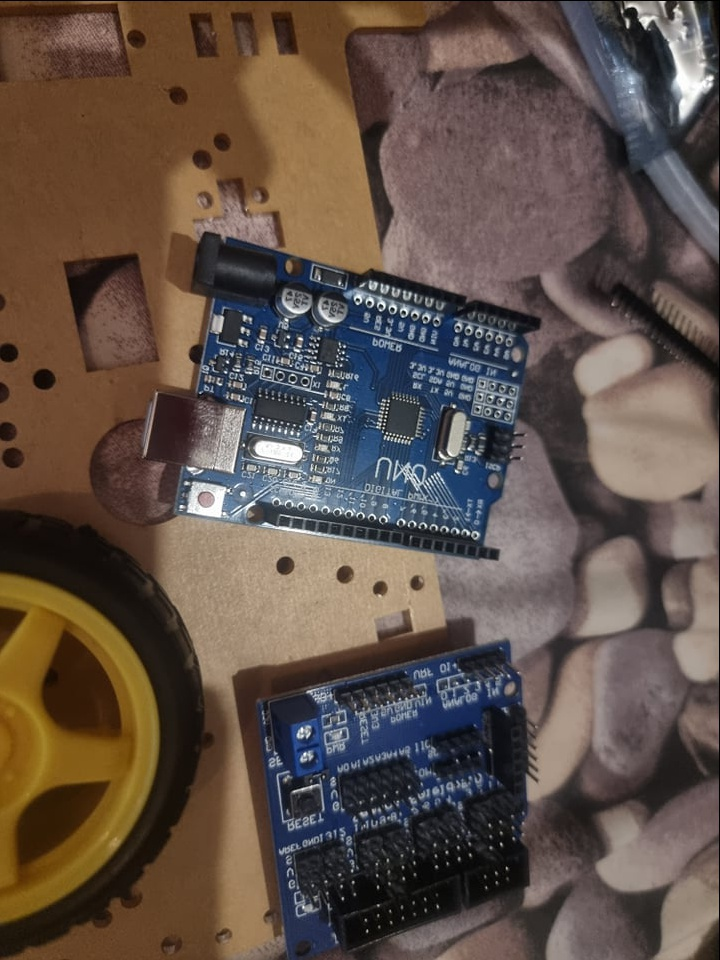5V EXPANSION: (257, 637, 535, 958)
UNO R3: (121, 228, 543, 559)
